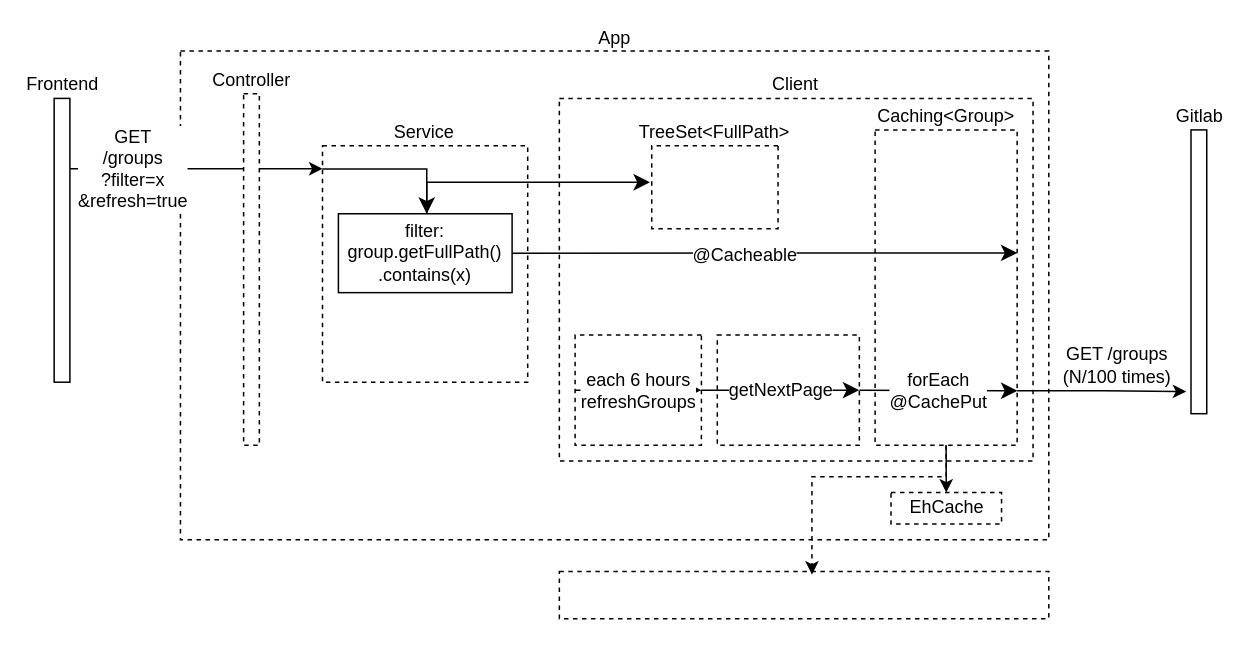
This 1248x645 diagram has some shape labels left out. The centre of each missing label's shape, as x and y in pixels:
"Distributed cache" goes at (803,594).
"Retryable" goes at (787,389).
"Scheduled" goes at (637,389).
